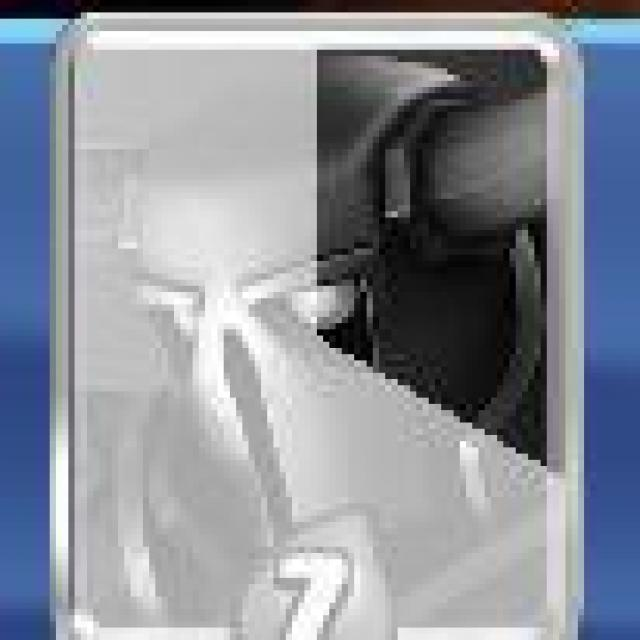Pekka: (55, 15, 582, 640)
